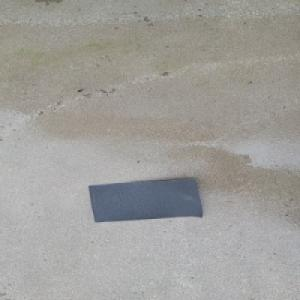PaintChip: (87, 178, 203, 223)
